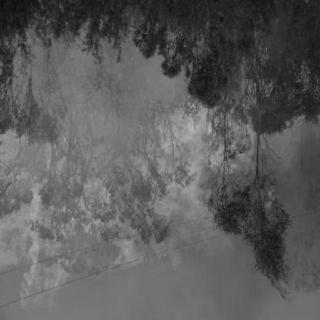Fire: (2, 95, 276, 312)
